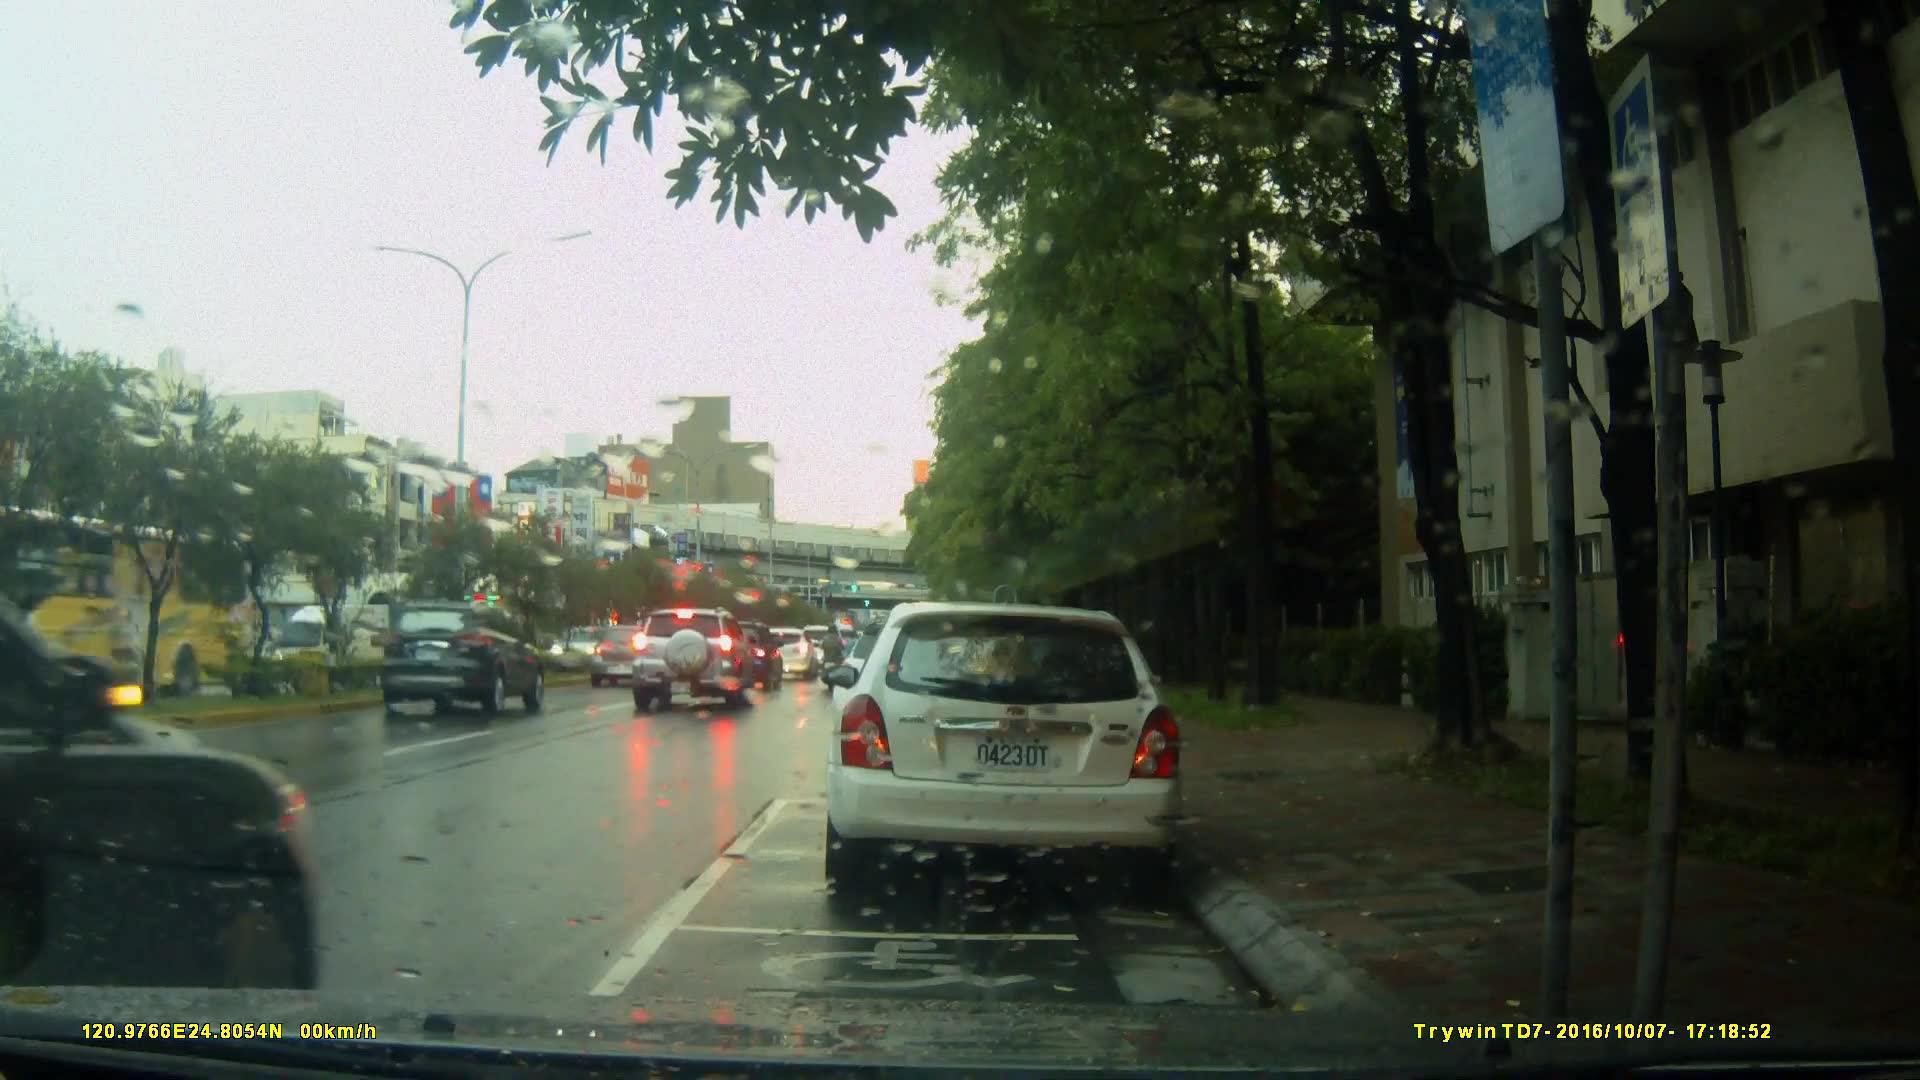rider: (815, 622, 851, 700)
vehicle: (1, 501, 318, 988), (820, 602, 1188, 898), (2, 528, 271, 686), (378, 596, 548, 717), (627, 606, 754, 716)
